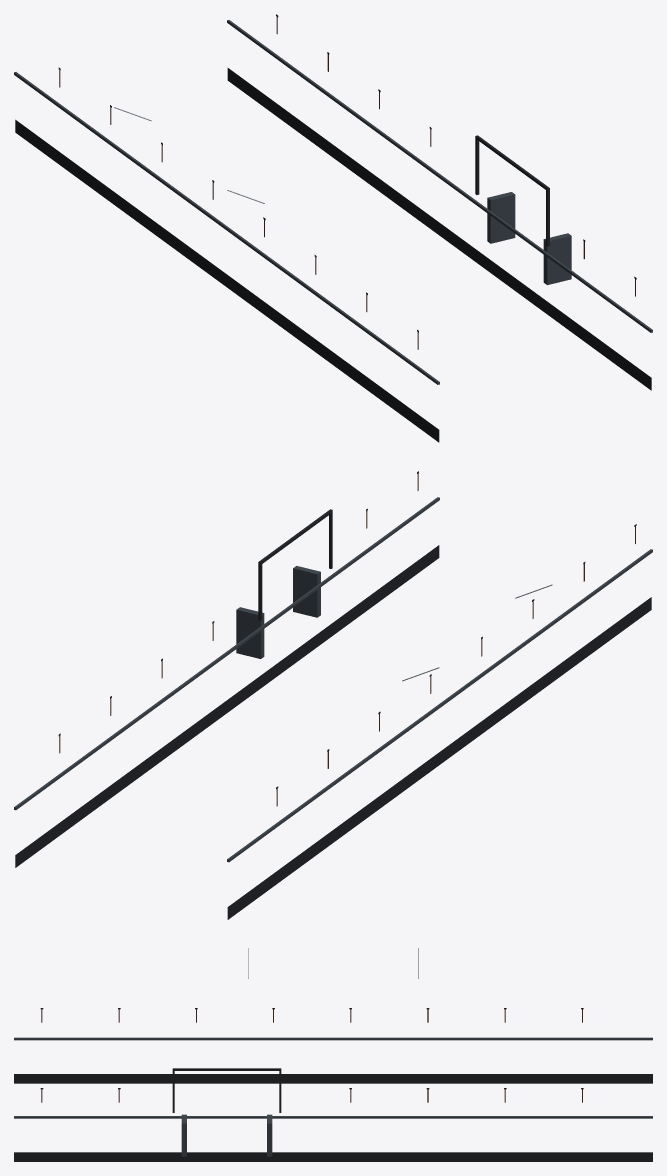
The model's file is env_fallow_mid_trim.fbx.
3 views of the same model, one above another, from view 1: azimuth 30°, elevation 25°; view 2: azimuth 150°, elevation 25°; view 3: azimuth 270°, elevation 25° (orthographic). The views are drawn at different scales.
Visible parts, largest first — view 1: env_fallow_mid_trim; view 2: env_fallow_mid_trim; view 3: env_fallow_mid_trim.
Boxes of the visible parts, x1,y1,x2,y2 form: env_fallow_mid_trim: [14, 14, 652, 442]; env_fallow_mid_trim: [14, 471, 652, 919]; env_fallow_mid_trim: [14, 948, 652, 1161].
Bounding box in the file's own units: 9819 × 4771 × 24000.
